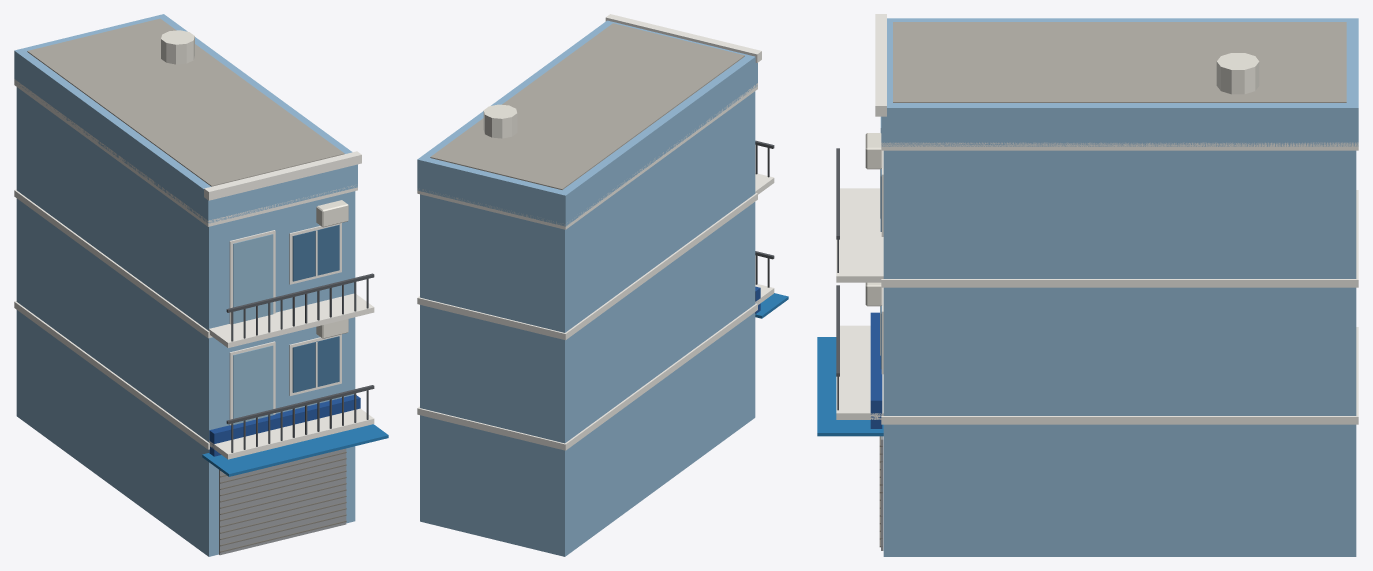
The model's file is BLD_Shophouse_Blue.fbx.
3 renders of one model, left to right at view 1: azimuth 30°, elevation 25°; view 2: azimuth 150°, elevation 25°; view 3: azimuth 270°, elevation 25°, orthographic. The views are drawn at different scales.
Parts seen in each view (by area): view 1: BLD_Shophouse_Blue; view 2: BLD_Shophouse_Blue; view 3: BLD_Shophouse_Blue.
Part boxes in pixels (left/top/right/bottom): BLD_Shophouse_Blue: left=14, top=14, right=388, bottom=556; BLD_Shophouse_Blue: left=417, top=14, right=788, bottom=556; BLD_Shophouse_Blue: left=817, top=14, right=1358, bottom=556.
Bounding box in the file's own units: 4.8 × 11.1 × 11.45.
